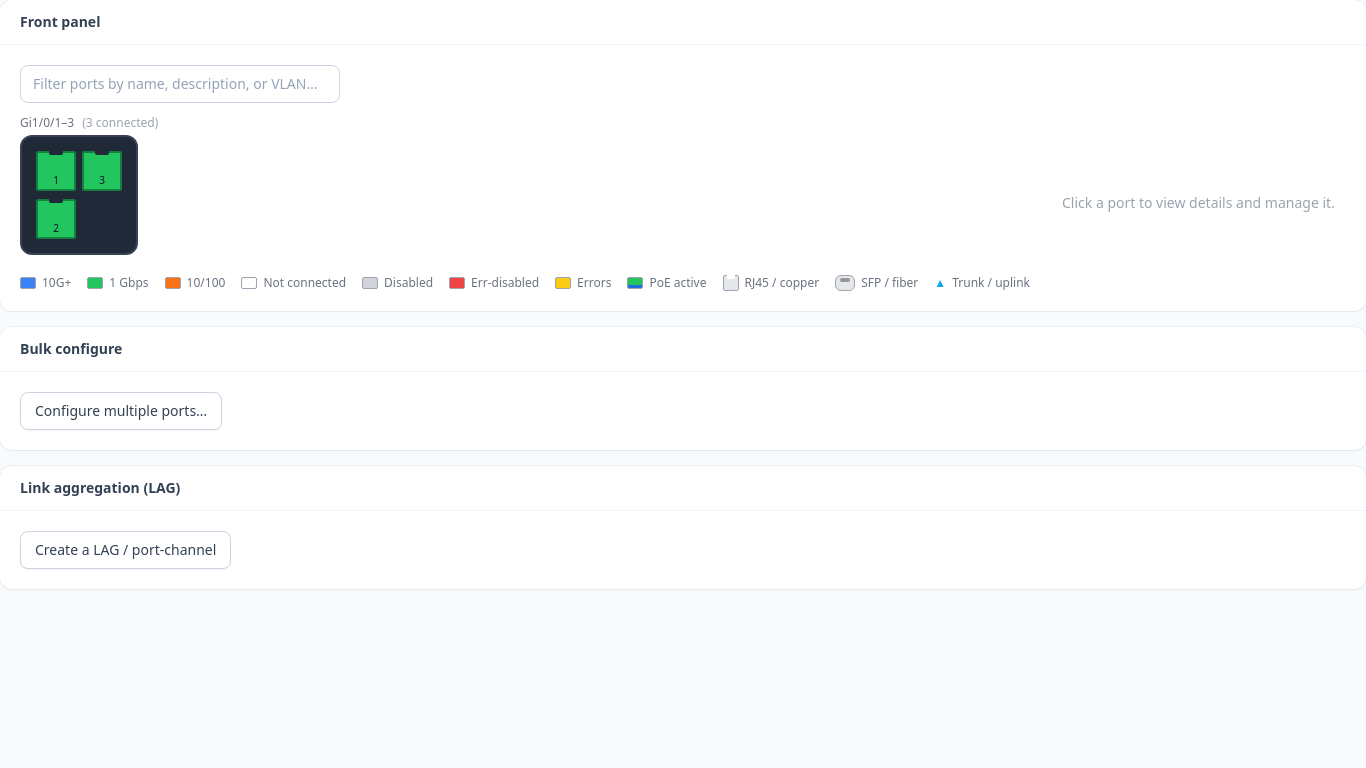
Test: Bulk port configuration › previews against the first port, then applies to every selected port and reports each
Click the button "Configure multiple ports…": (121, 411) x1=20 y1=392 x2=222 y2=430
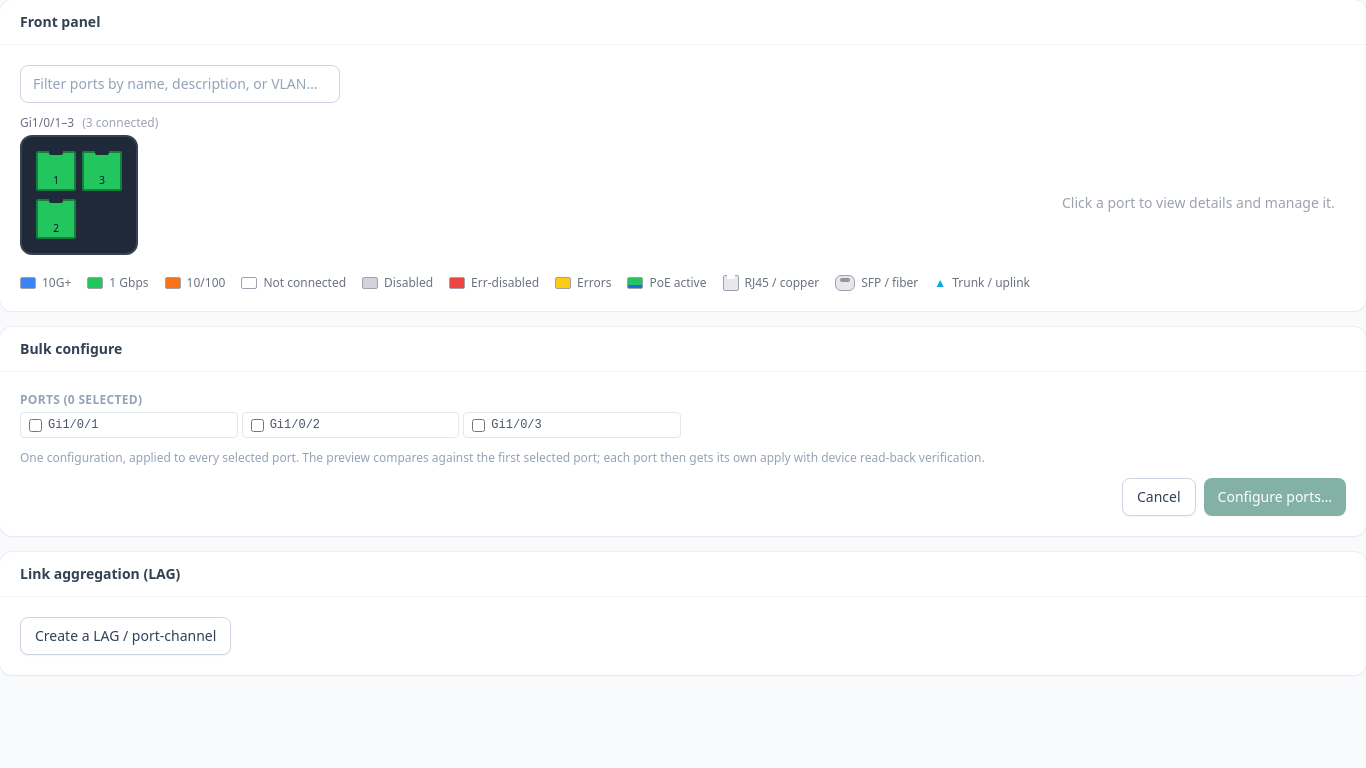
Click the checkbox labelled "Gi1/0/1": (36, 425) x1=29 y1=418 x2=42 y2=432
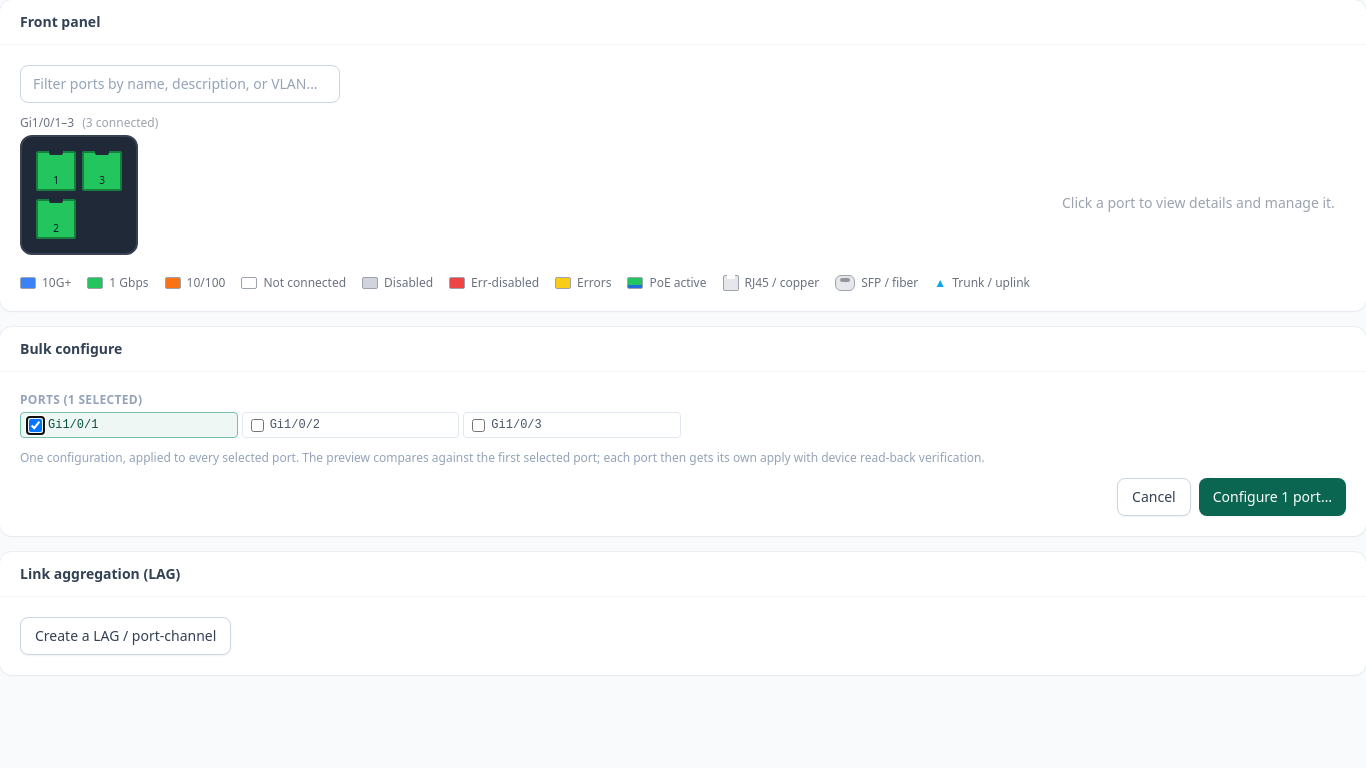
Click the checkbox labelled "Gi1/0/2": (257, 425) x1=251 y1=418 x2=264 y2=432
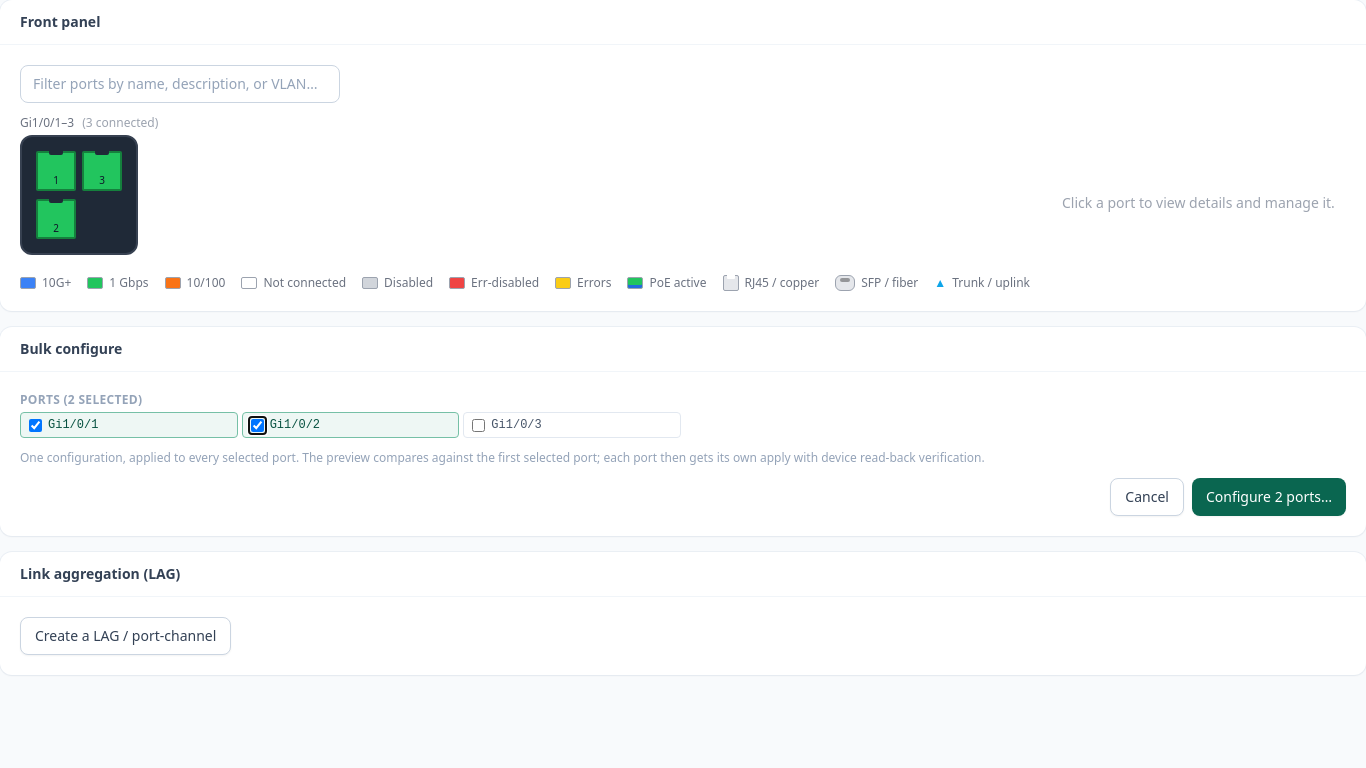
Click the button "Configure 2 ports…": (1269, 497) x1=1192 y1=478 x2=1346 y2=516
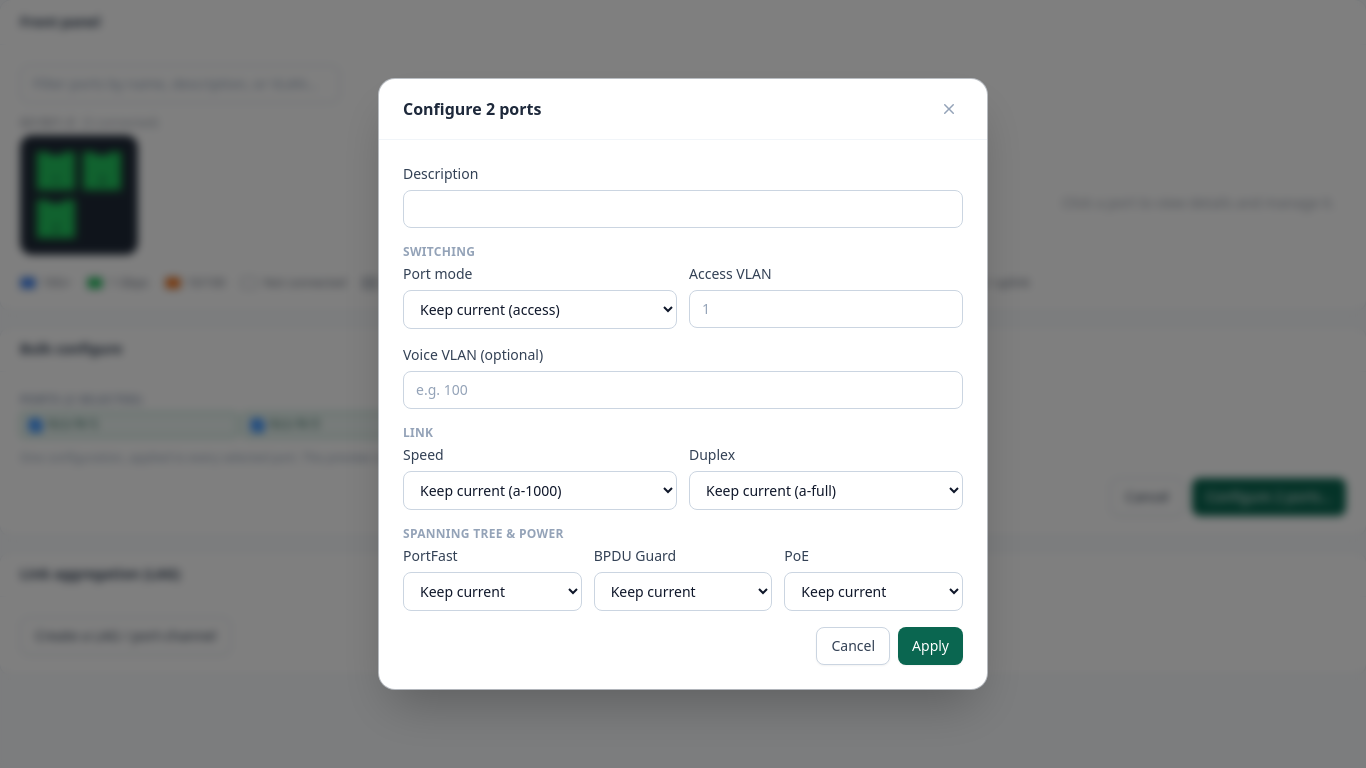
Expected: the heading "Configure 2 ports" is shown, x1=403 y1=97 x2=541 y2=121
In the field labelled "Access VLAN": (826, 309) x1=689 y1=290 x2=963 y2=328, type "20"
Click the button "Apply": (931, 646) x1=898 y1=627 x2=963 y2=665
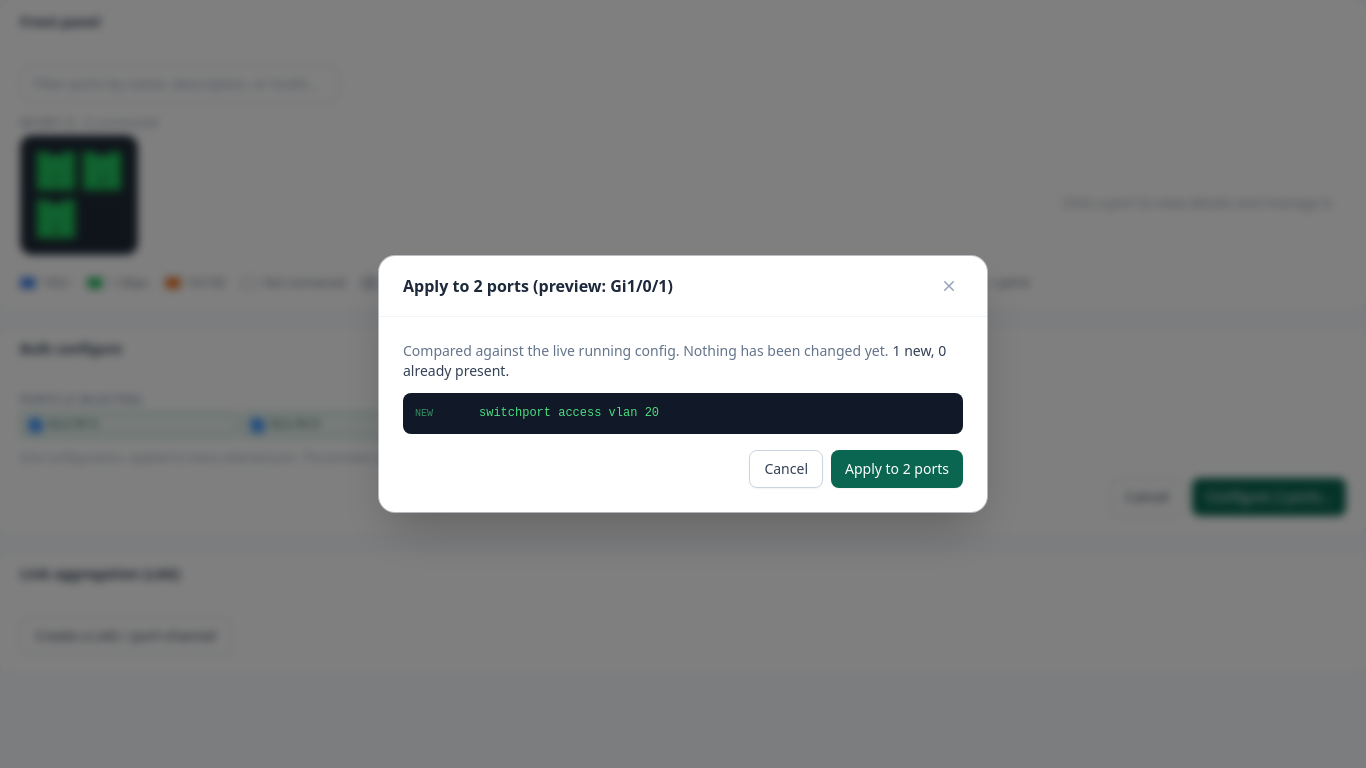
// Preview modal offers a bulk apply
Click the button "Apply to 2 ports": (897, 469) x1=831 y1=450 x2=963 y2=488
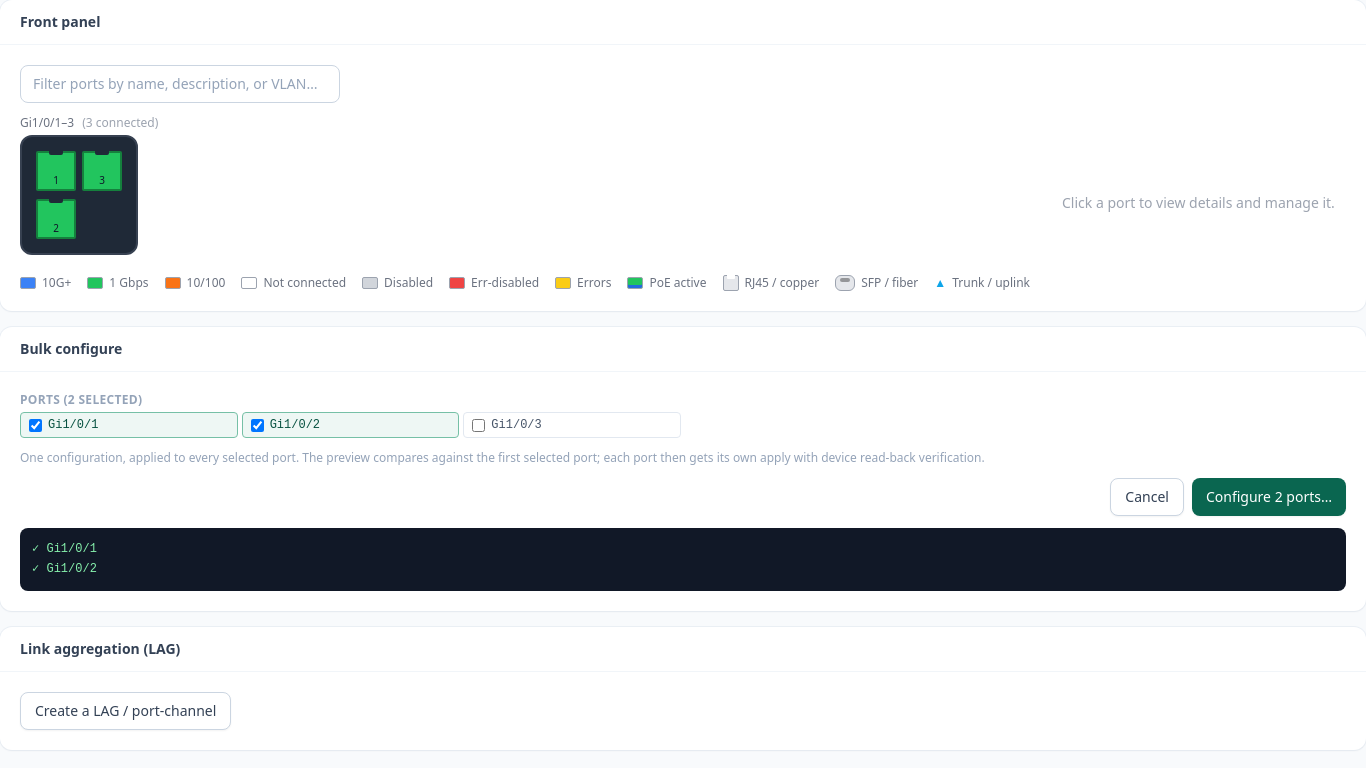
Expected: the text "✓ Gi1/0/1 ✓ Gi1/0/2" is shown, x1=20 y1=528 x2=1346 y2=591
